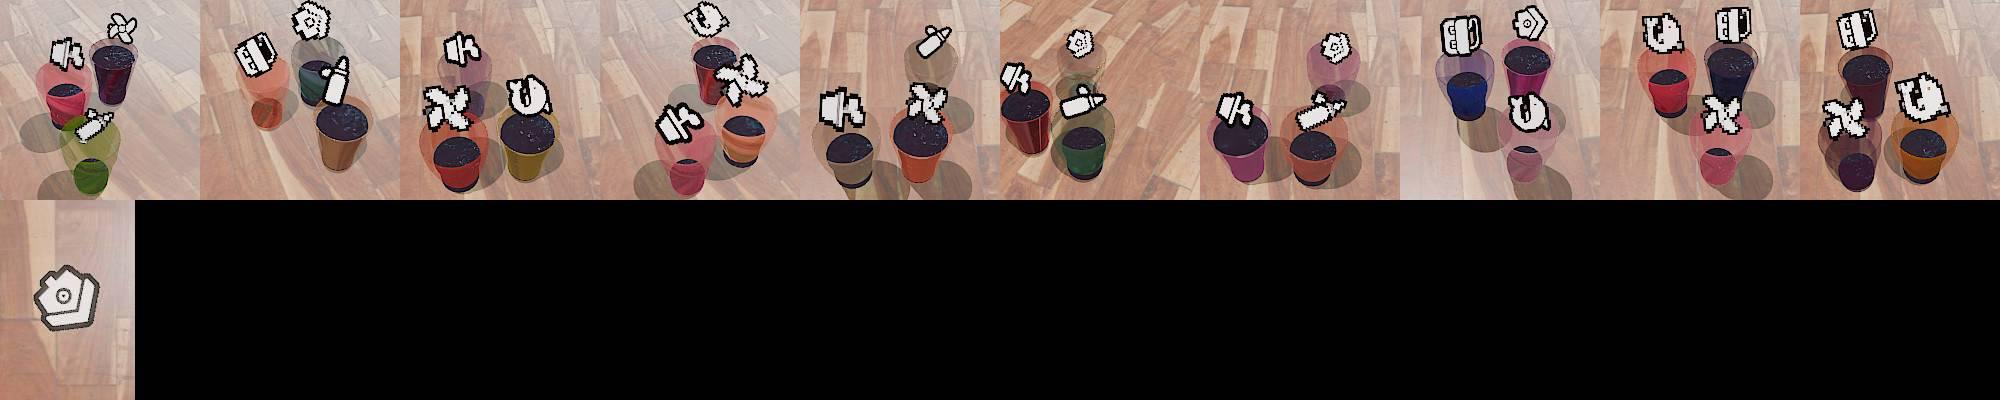icon: (32, 264, 102, 334), (713, 52, 769, 108), (1893, 72, 1950, 123), (421, 83, 476, 133), (1294, 87, 1348, 133), (654, 98, 706, 145), (819, 84, 868, 131), (505, 73, 554, 119), (233, 31, 279, 77), (1821, 96, 1869, 139), (905, 81, 950, 125), (1507, 90, 1551, 133), (1642, 12, 1686, 55), (1835, 8, 1878, 51), (1440, 14, 1482, 58), (683, 0, 730, 39), (1058, 81, 1106, 119), (1701, 93, 1744, 134), (318, 54, 350, 108), (291, 1, 332, 43), (74, 104, 116, 143), (441, 31, 483, 69), (1214, 90, 1254, 129), (1511, 4, 1549, 42), (1714, 6, 1753, 43), (915, 23, 952, 60), (49, 37, 86, 72), (998, 61, 1033, 96), (1319, 31, 1351, 65), (106, 12, 138, 45), (1066, 27, 1095, 59)
